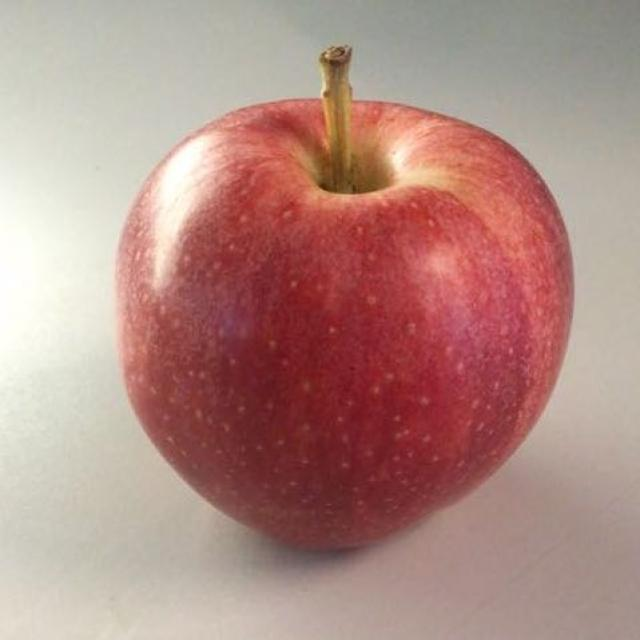Apple: (95, 32, 598, 564)
